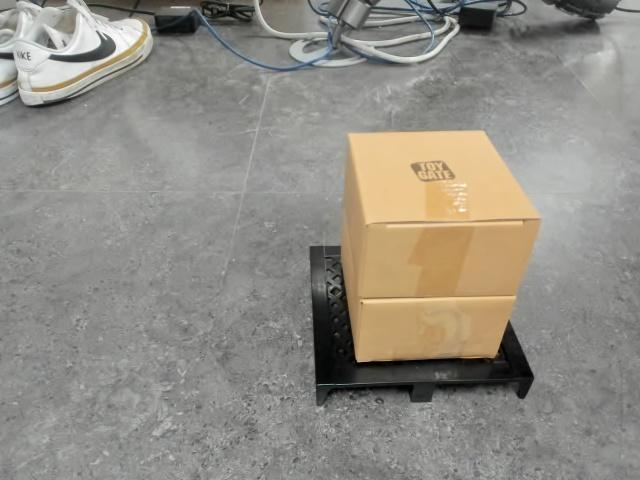box: (308, 127, 545, 409)
